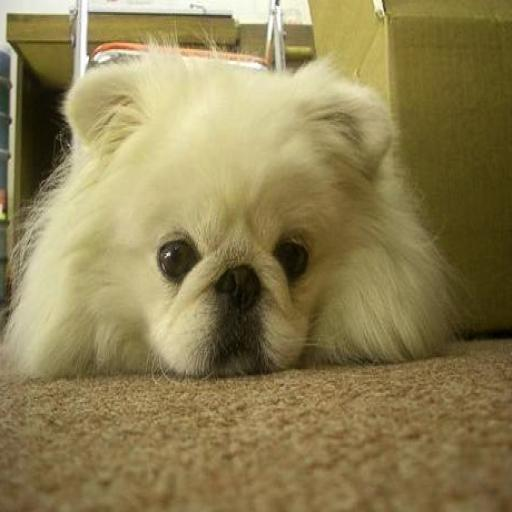dog_face: (67, 58, 398, 380)
